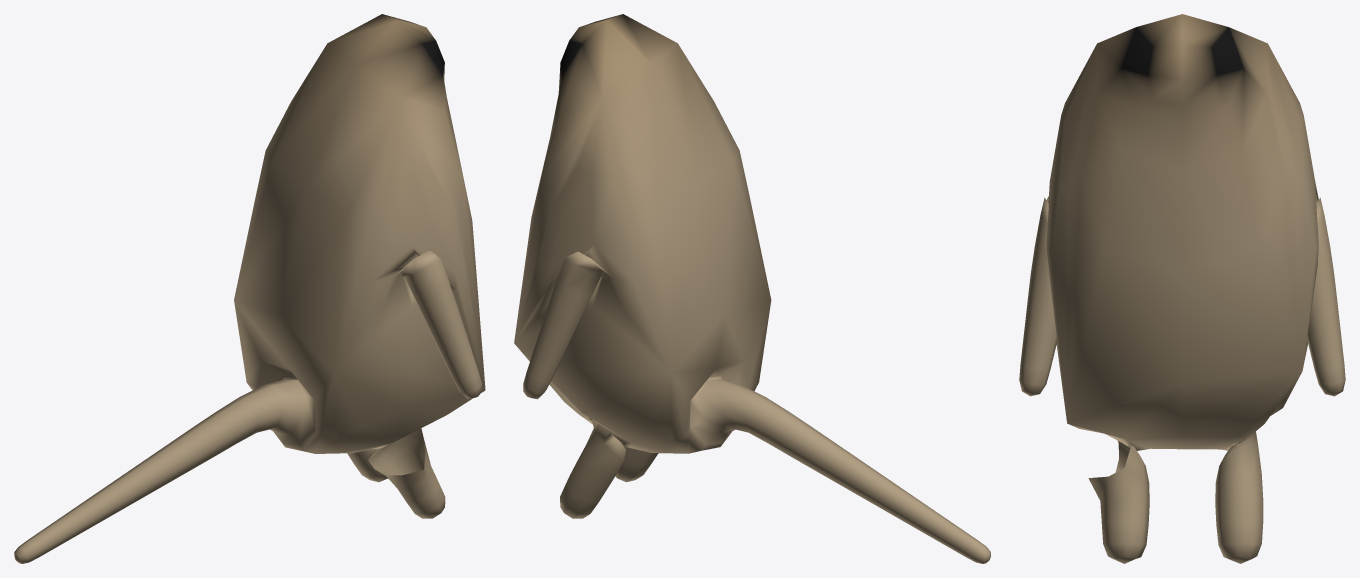
The model's file is meerkat.glb.
3 views of the same model, side by side, from view 1: azimuth 30°, elevation 25°; view 2: azimuth 150°, elevation 25°; view 3: azimuth 270°, elevation 25° (orthographic). The views are drawn at different scales.
Parts seen in each view (by area): view 1: meerkat; view 2: meerkat; view 3: meerkat.
Boxes of the visible parts, box(x1,y1,x2,y2) form: meerkat: box(14, 14, 485, 563); meerkat: box(514, 14, 990, 563); meerkat: box(1019, 14, 1345, 563).
Size of the model in its own units: 0.2735 by 0.2895 by 0.1572.
